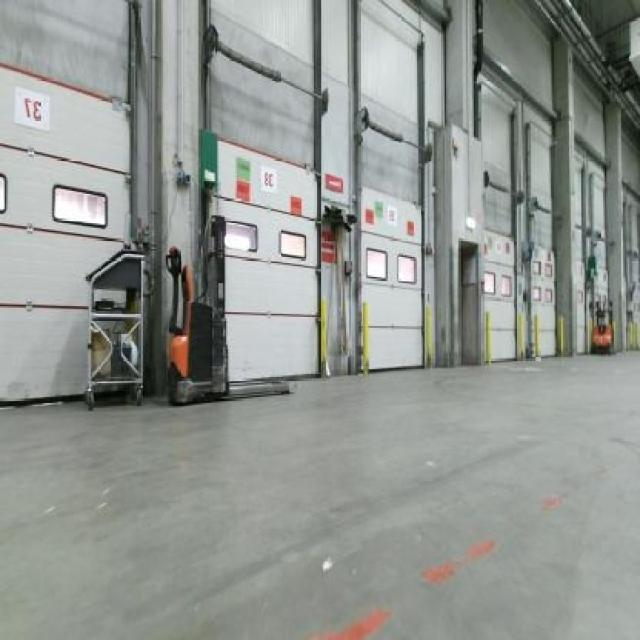floor: (0, 351, 637, 637)
pallets: (0, 65, 126, 398), (209, 138, 315, 378), (358, 186, 422, 366), (480, 229, 514, 360)
